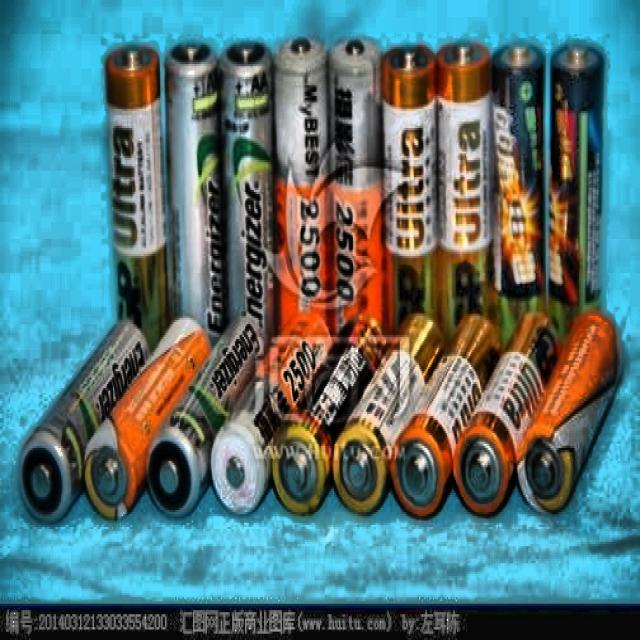Non-Valuable Waste - Batteries: (18, 321, 149, 522), (84, 319, 210, 519), (210, 313, 331, 513), (271, 315, 385, 514), (148, 317, 262, 516), (332, 315, 444, 512), (391, 321, 499, 517), (516, 311, 620, 512), (454, 315, 552, 516), (106, 44, 169, 348), (274, 38, 334, 331), (166, 44, 225, 337), (549, 44, 605, 336), (220, 44, 274, 343), (436, 40, 490, 337), (329, 42, 384, 331), (492, 44, 545, 343), (381, 46, 435, 331)
